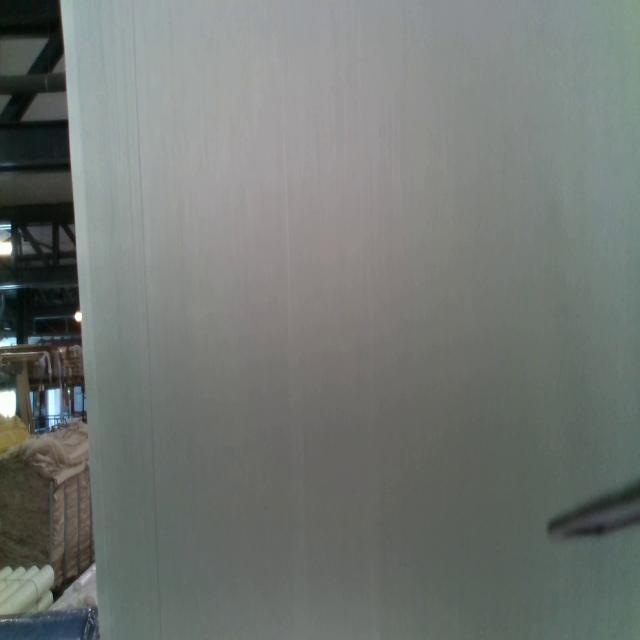crease: (132, 1, 162, 639), (282, 66, 304, 623)
